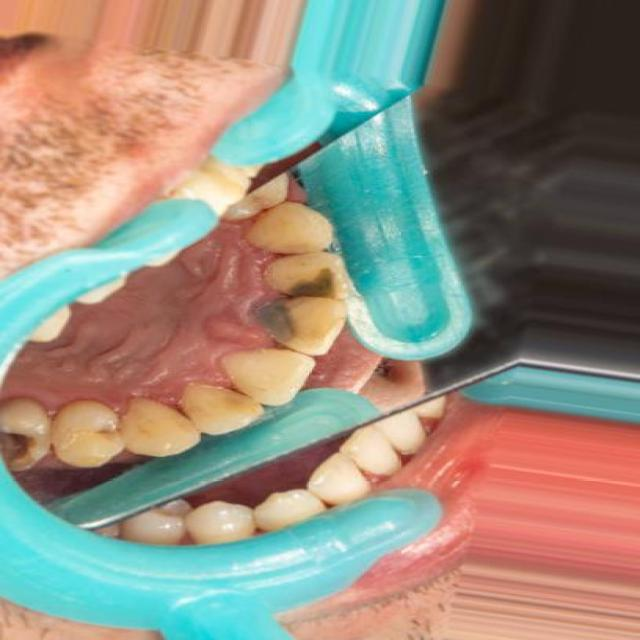caries: (252, 299, 327, 347), (268, 260, 344, 303), (0, 412, 53, 470)
